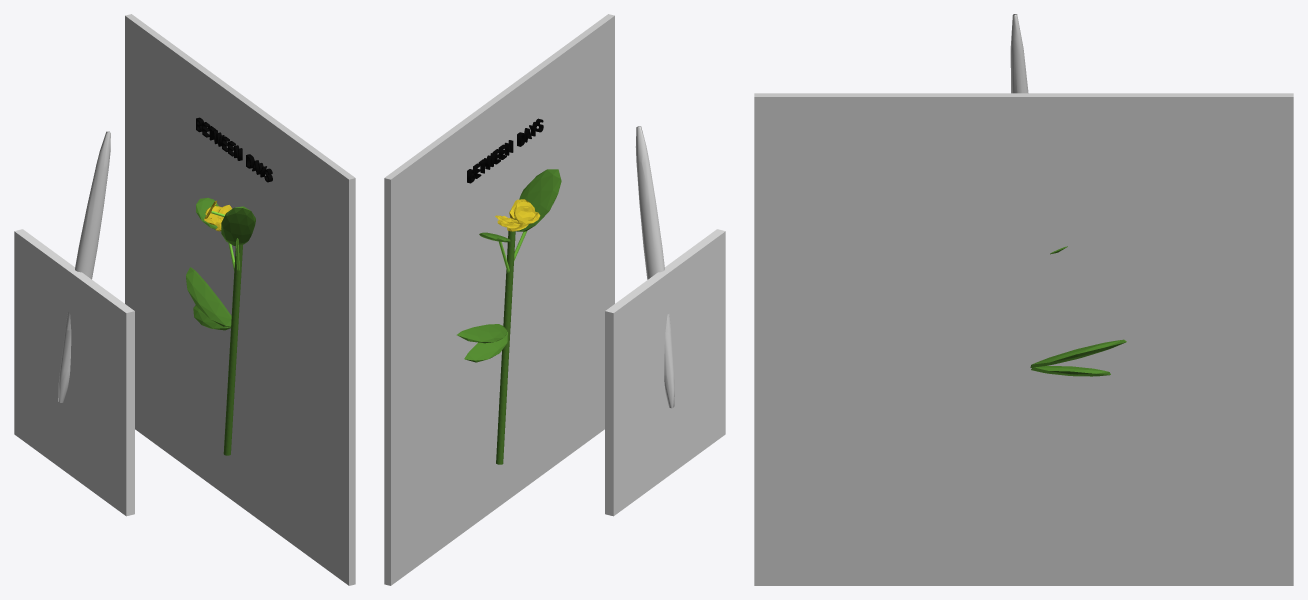
The model's file is album.fbx.
3 renders of one model, left to right at view 1: azimuth 30°, elevation 25°; view 2: azimuth 150°, elevation 25°; view 3: azimuth 270°, elevation 25°, orthographic. The views are drawn at different scales.
Visible parts, largest first — view 1: Cube, Cube.001, Mball, Cylinder.001, Icosphere.003, Text, Icosphere.002; view 2: Cube, Cube.001, Mball, Cylinder.001, Icosphere.002, Text, Icosphere.003, Icosphere; view 3: Cube, Mball, Icosphere.003.
Part boxes in pixels (bbox=[...]): Cube: bbox=[125, 14, 355, 585]; Cube.001: bbox=[14, 229, 134, 516]; Mball: bbox=[58, 131, 110, 402]; Cylinder.001: bbox=[223, 245, 242, 455]; Icosphere.003: bbox=[186, 267, 231, 326]; Text: bbox=[196, 117, 272, 182]; Icosphere.002: bbox=[221, 206, 255, 245]; Cube: bbox=[384, 14, 614, 585]; Cube.001: bbox=[605, 229, 725, 516]; Mball: bbox=[635, 126, 674, 408]; Cylinder.001: bbox=[496, 231, 515, 464]; Icosphere.002: bbox=[516, 169, 561, 231]; Text: bbox=[467, 118, 543, 183]; Icosphere.003: bbox=[457, 324, 507, 343]; Icosphere: bbox=[464, 331, 507, 362]; Cube: bbox=[754, 93, 1293, 585]; Mball: bbox=[1010, 14, 1028, 93]; Icosphere.003: bbox=[1030, 339, 1126, 367].
Bounding box in the file's own units: 195 × 401 × 400.
